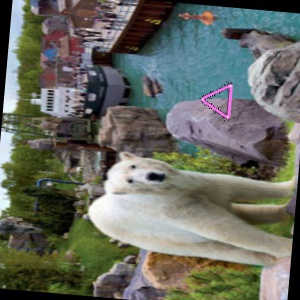triangle: (199, 81, 235, 121)
